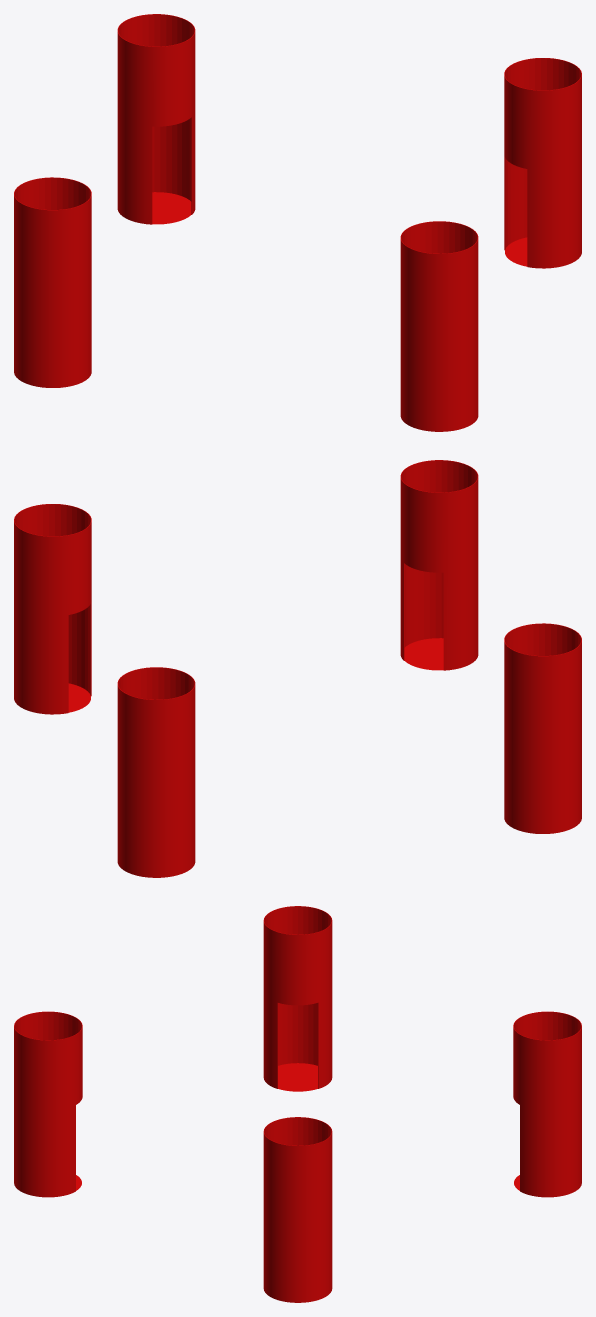
Rendered from Elevator.fbx.
3 views of the same model, one above another, from view 1: azimuth 30°, elevation 25°; view 2: azimuth 150°, elevation 25°; view 3: azimuth 270°, elevation 25° (orthographic). The views are drawn at different scales.
Visible parts, largest first — view 1: Elevators; view 2: Elevators; view 3: Elevators.
Part boxes in pixels (left/top/right/bottom): Elevators: left=14, top=14, right=581, bottom=431; Elevators: left=14, top=460, right=581, bottom=877; Elevators: left=14, top=906, right=581, bottom=1302.
Bounding box in the file's own units: 1636 × 499 × 1636.
